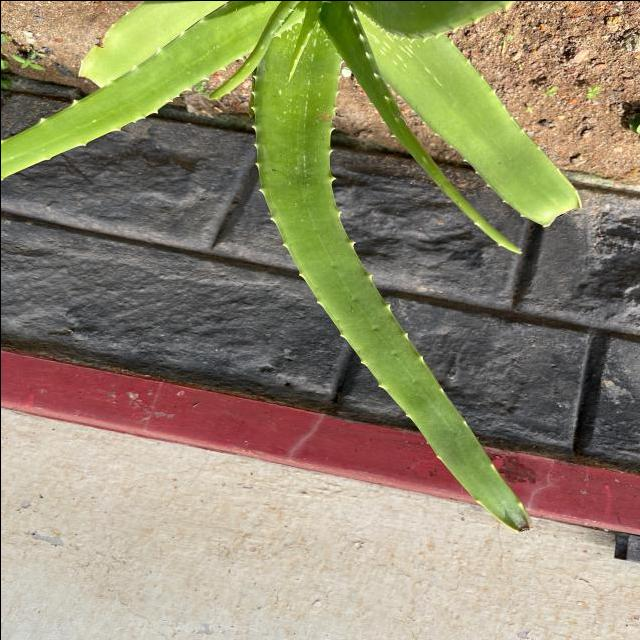Aloe vera: (246, 48, 541, 536)
